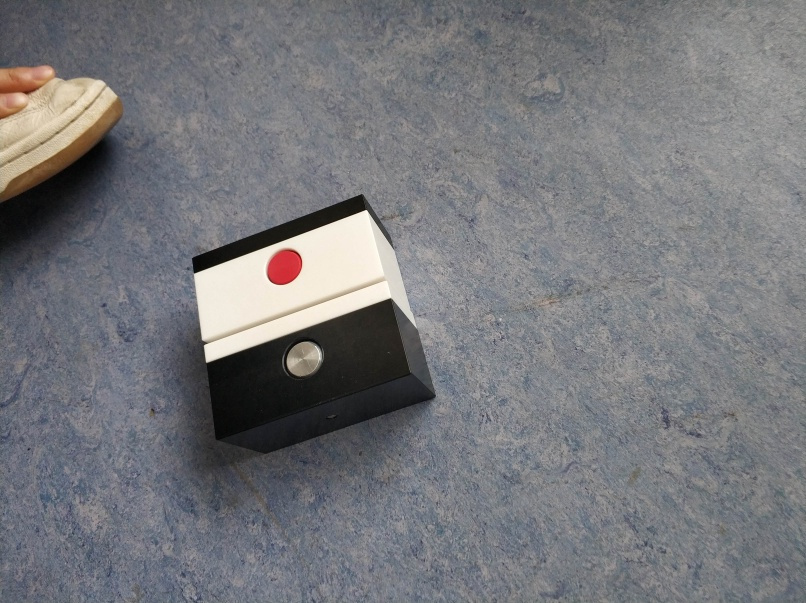black+white+red: (189, 190, 413, 346)
white+black+silver: (200, 281, 440, 458)
